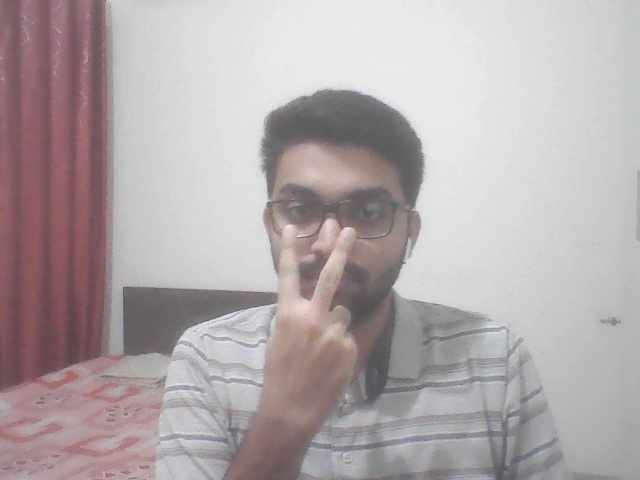see: (249, 208, 377, 452)
